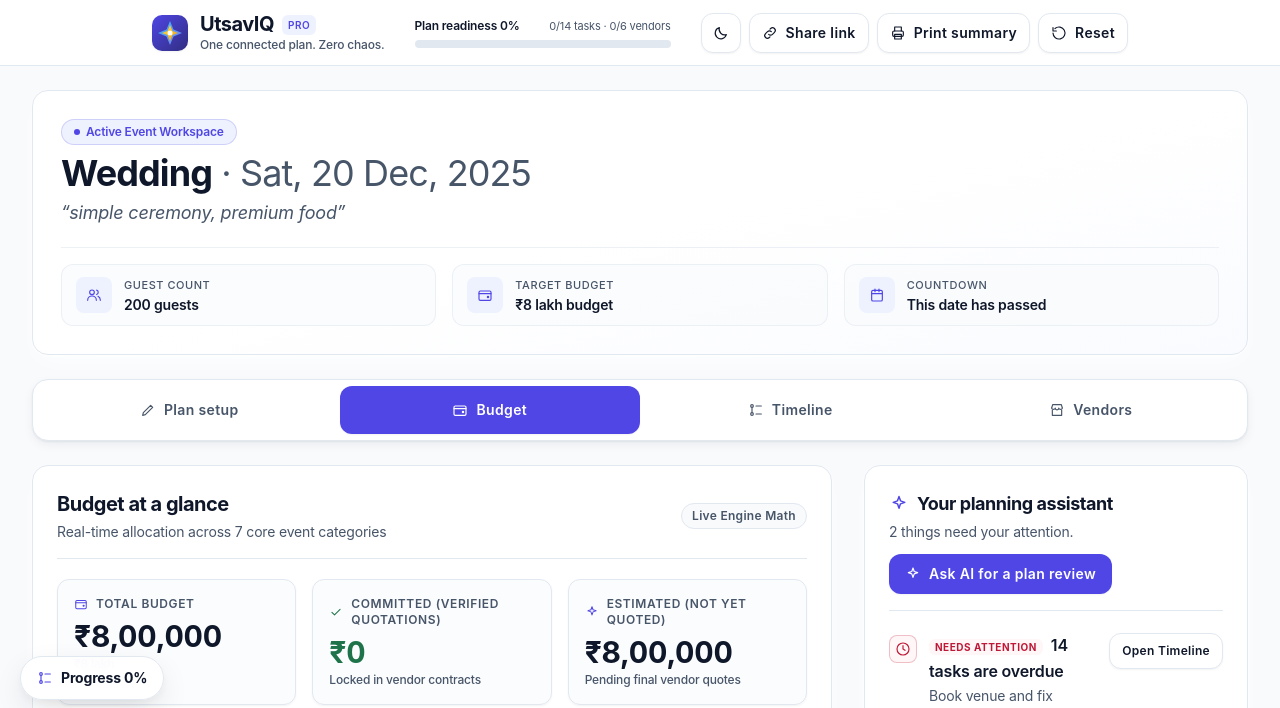
timeline › flags tasks of a past event as overdue
The width and height of the screenshot is (1280, 708).
Step 1. Click the tab "Timeline" → coordinates (790, 410), box [640,386,940,434]
(page scrolled)
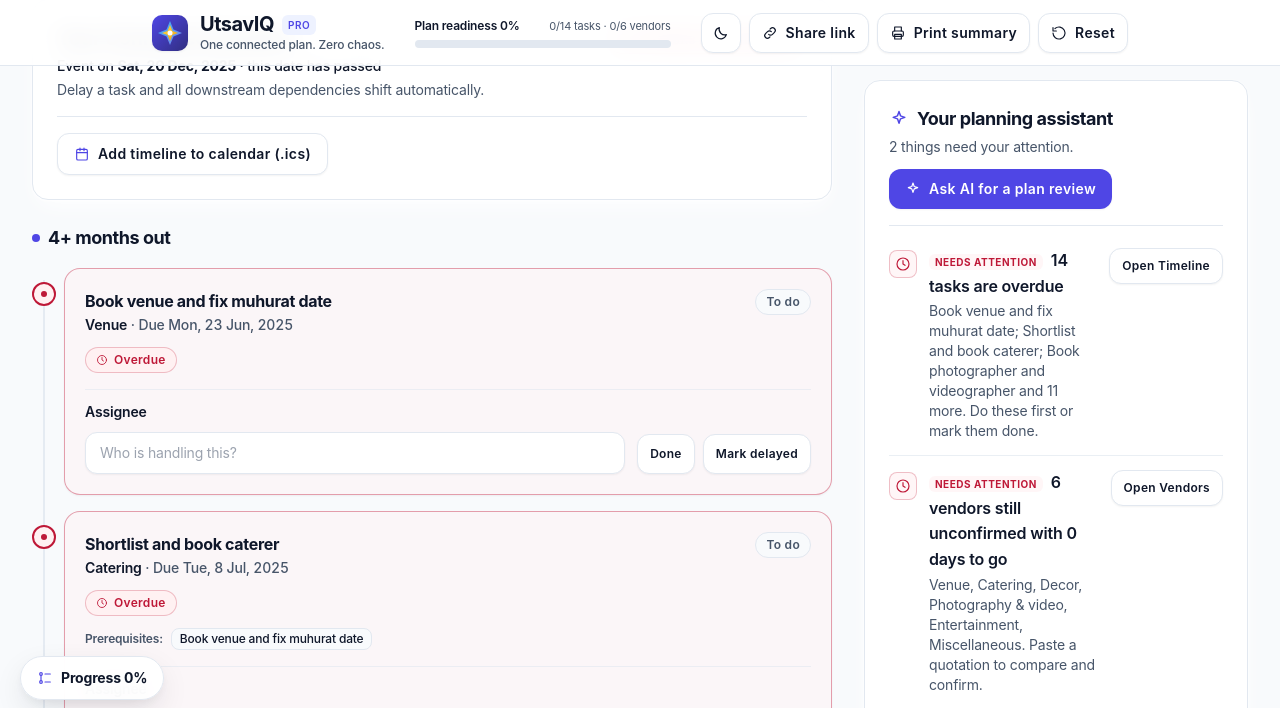
Check: the text "Overdue" below "Mon, 23 Jun, 2025" is shown, box [114,352,166,367]
